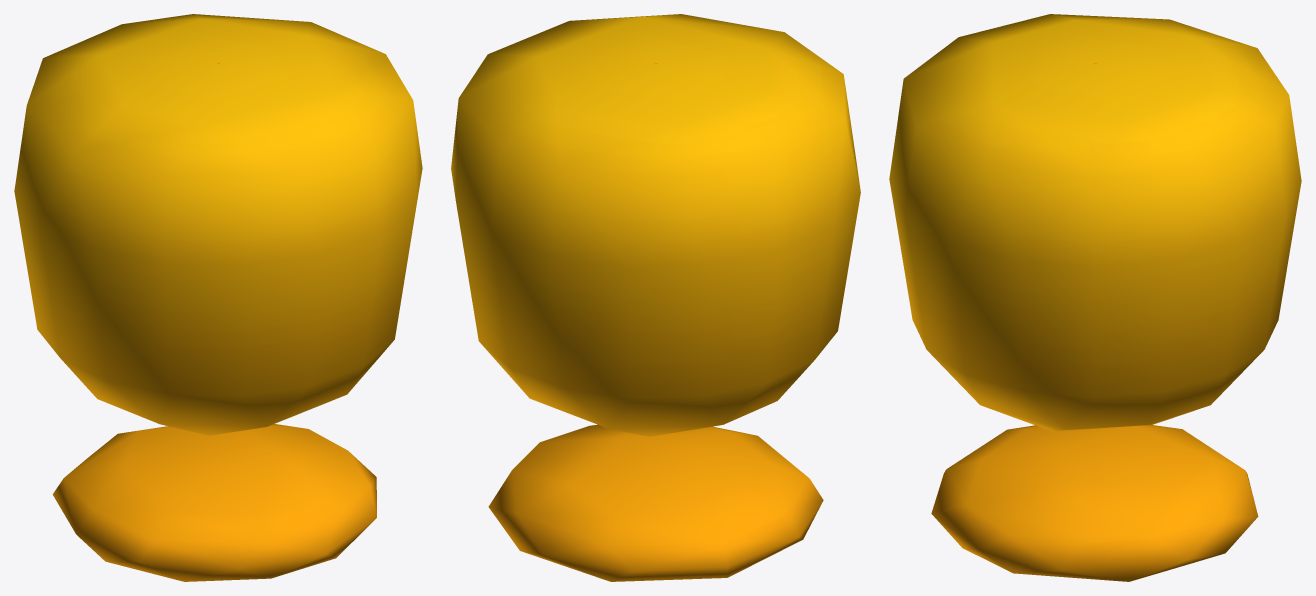
Rendered from exclamation_point.fbx.
3 views of the same model, side by side, from view 1: azimuth 30°, elevation 25°; view 2: azimuth 150°, elevation 25°; view 3: azimuth 270°, elevation 25° (orthographic).
Parts seen in each view (by area): view 1: Sphere.001; view 2: Sphere.001; view 3: Sphere.001.
Boxes of the visible parts, box(x1,y1,x2,y2) form: Sphere.001: box(14, 14, 422, 581); Sphere.001: box(451, 14, 860, 581); Sphere.001: box(889, 14, 1301, 581).
Size of the model in its own units: 2.08 by 2.68 by 2.08.
Materials: 1 (1 with a texture image).
